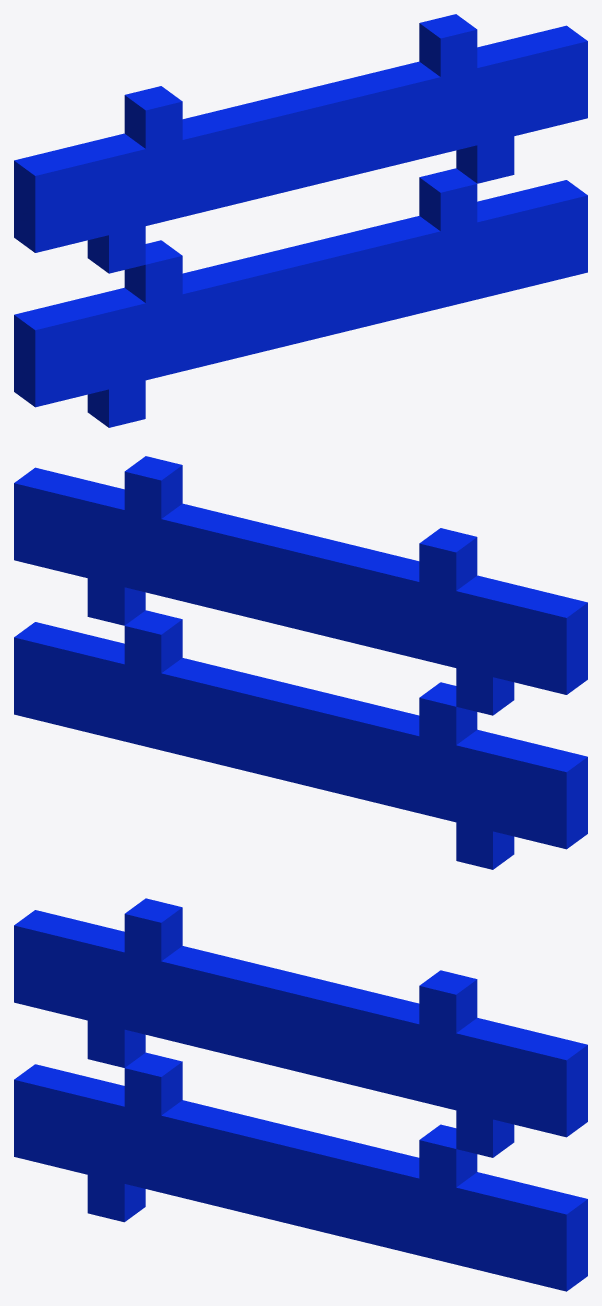
Rendered from MazeBlue1StairLeft.vox.obj.
The picture shows the model from 3 angles, top to bottom: view 1: azimuth 30°, elevation 25°; view 2: azimuth 150°, elevation 25°; view 3: azimuth 330°, elevation 25°; orthographic projection.
Bounding box in the file's own units: 1.5 × 0.8 × 0.1.
Materials: 1 (1 with a texture image).
